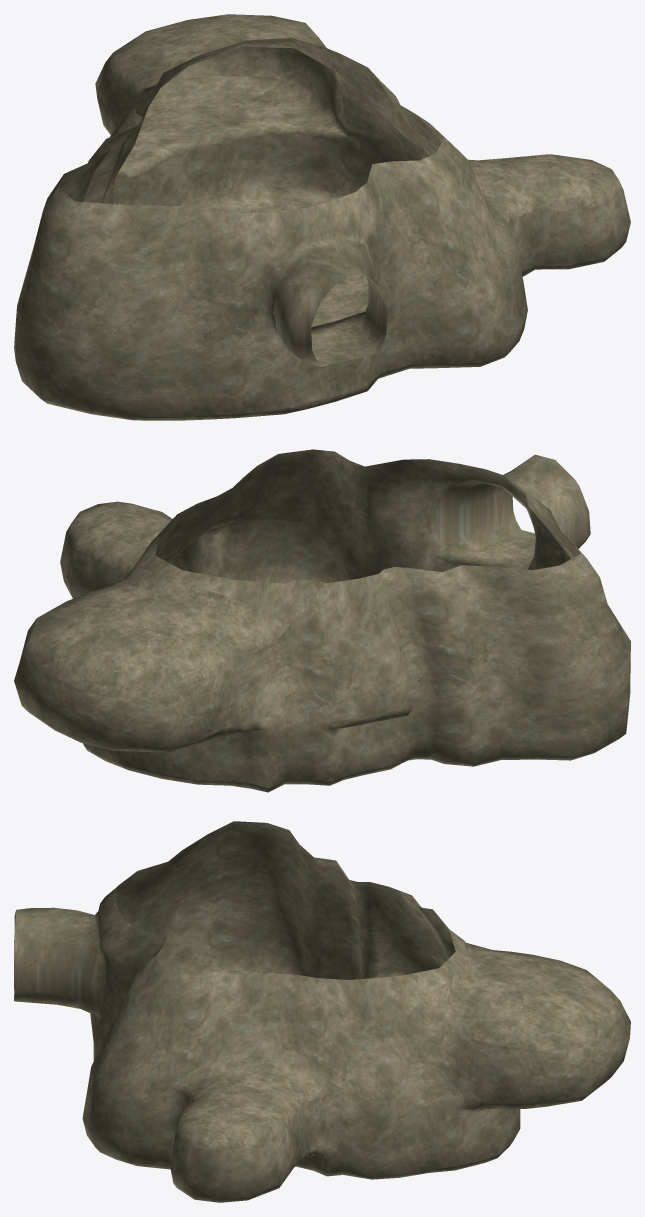
The model's file is OVERHILL_A_01_ML_CAVE_01.fbx.
3 views of the same model, one above another, from view 1: azimuth 30°, elevation 25°; view 2: azimuth 150°, elevation 25°; view 3: azimuth 270°, elevation 25° (orthographic). The views are drawn at different scales.
Parts seen in each view (by area): view 1: OVERHILL_A_01_ML_CAVE_01; view 2: OVERHILL_A_01_ML_CAVE_01; view 3: OVERHILL_A_01_ML_CAVE_01.
Part boxes in pixels (x1=…): OVERHILL_A_01_ML_CAVE_01: x1=14, y1=14, x2=630, y2=420; OVERHILL_A_01_ML_CAVE_01: x1=14, y1=449, x2=630, y2=792; OVERHILL_A_01_ML_CAVE_01: x1=14, y1=821, x2=630, y2=1202.
Size of the model in its own units: 225747 by 75277 by 227317.
2 materials, 2 textured.
